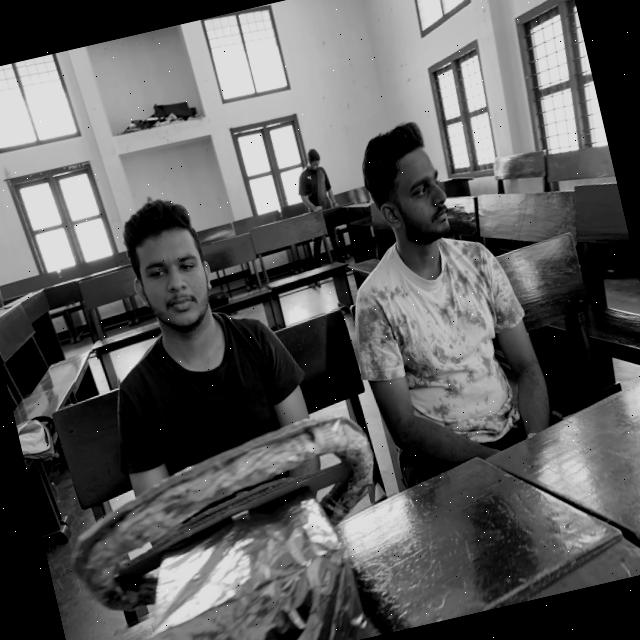Helmet: (102, 306, 344, 586), (335, 216, 566, 489)
